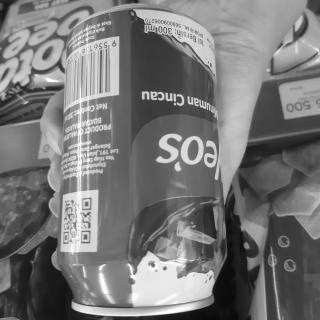alumunium_can: (43, 1, 247, 311)
